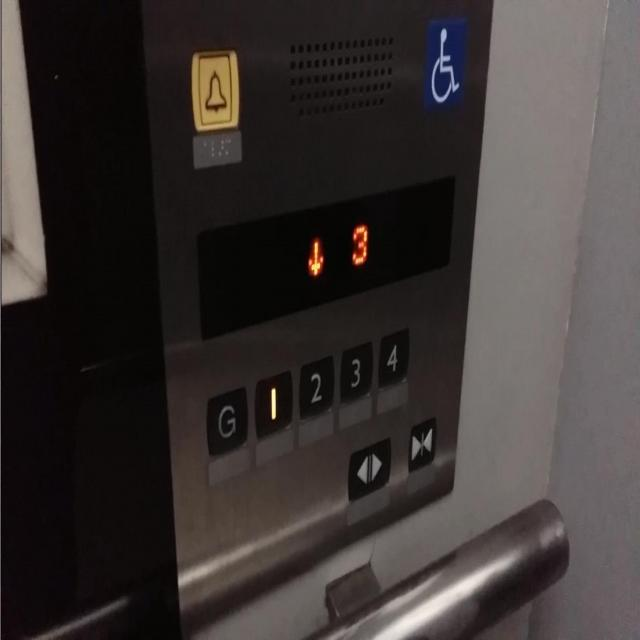1: (253, 368, 293, 439)
2: (298, 356, 334, 417)
3: (339, 340, 373, 402)
4: (377, 330, 410, 388)
CH: (425, 14, 468, 109)
G: (203, 385, 252, 457)
alarm: (188, 48, 242, 134)
close: (406, 413, 437, 471)
led: (197, 173, 455, 342)
open: (348, 432, 392, 498)
